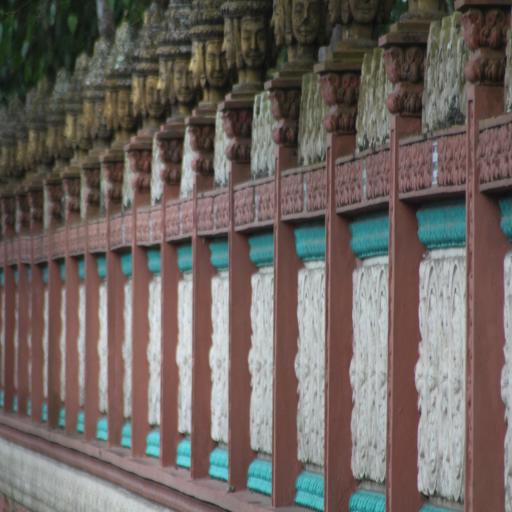la: (415, 253, 464, 498), (350, 258, 393, 481), (296, 262, 324, 466), (249, 266, 277, 454), (211, 273, 230, 446), (176, 278, 194, 438), (146, 274, 161, 426)
than: (130, 0, 169, 129), (221, 0, 270, 94), (270, 0, 324, 83), (159, 0, 192, 121), (190, 0, 225, 110), (324, 0, 392, 55), (104, 16, 132, 145), (83, 32, 106, 156), (62, 51, 83, 164), (0, 102, 26, 179), (25, 72, 45, 172), (45, 65, 61, 166)
